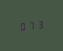seven: (27, 20, 34, 30)
three: (35, 19, 42, 30)
zero: (18, 21, 25, 31)
